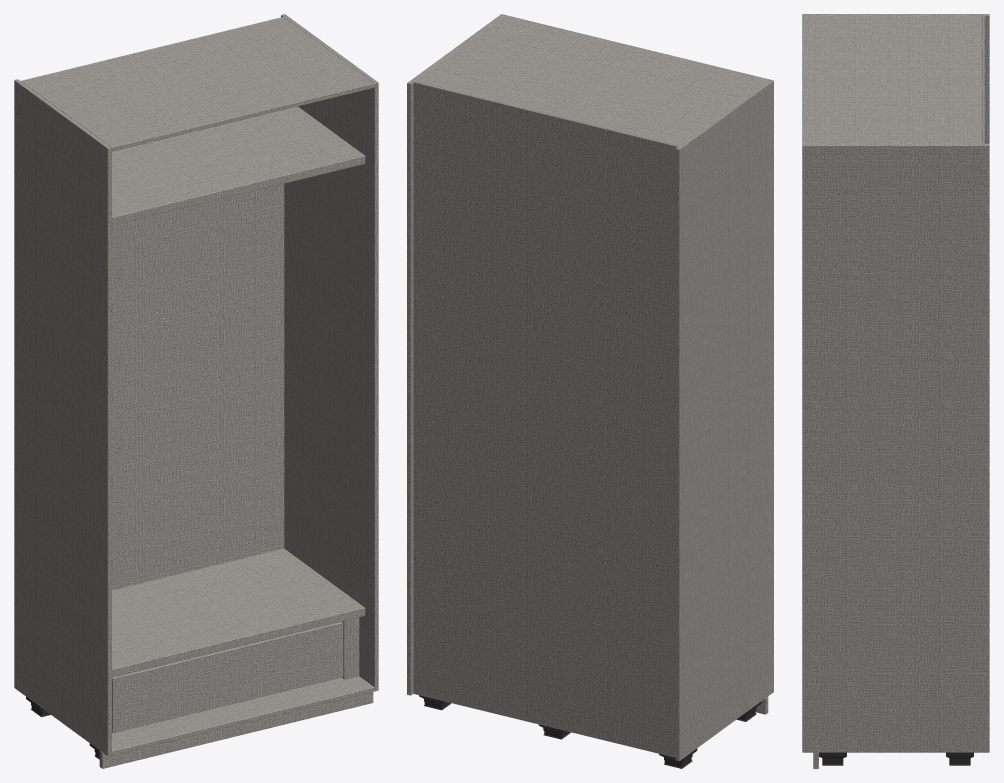
File: cbib12160.gltf
The picture shows the model from 3 angles, left to right: view 1: azimuth 30°, elevation 25°; view 2: azimuth 150°, elevation 25°; view 3: azimuth 270°, elevation 25°; orthographic projection.
Visible parts, largest first — view 1: CBIB12160; view 2: CBIB12160; view 3: CBIB12160.
Part boxes in pixels (bbox=[...]): CBIB12160: bbox=[14, 14, 378, 768]; CBIB12160: bbox=[407, 14, 773, 768]; CBIB12160: bbox=[802, 14, 989, 768].
Bounding box in the file's own units: 1 × 2.2 × 0.6.
Materials: 3 (2 with a texture image).
